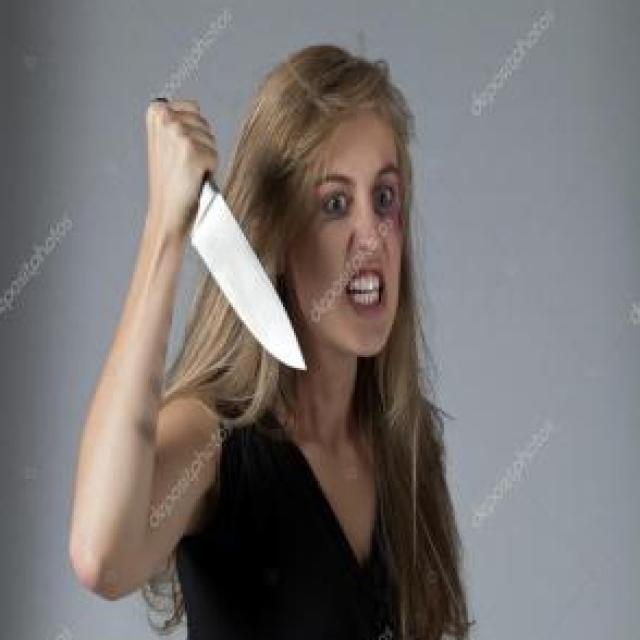knife: (172, 100, 313, 383)
